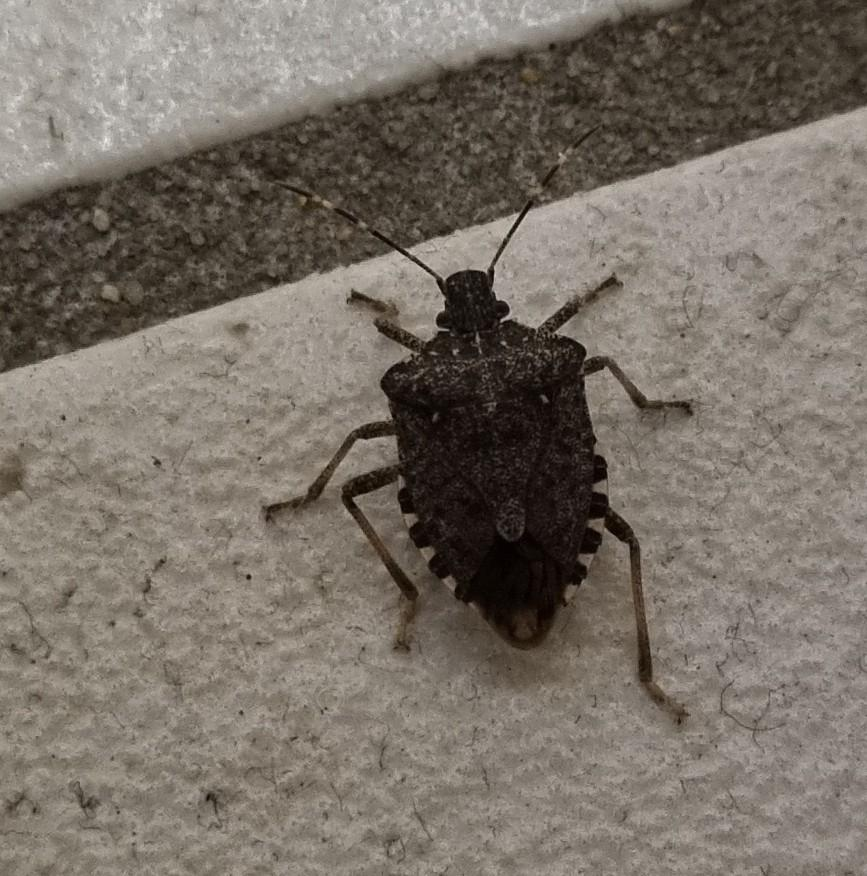stink_bugs: (178, 93, 781, 783)
